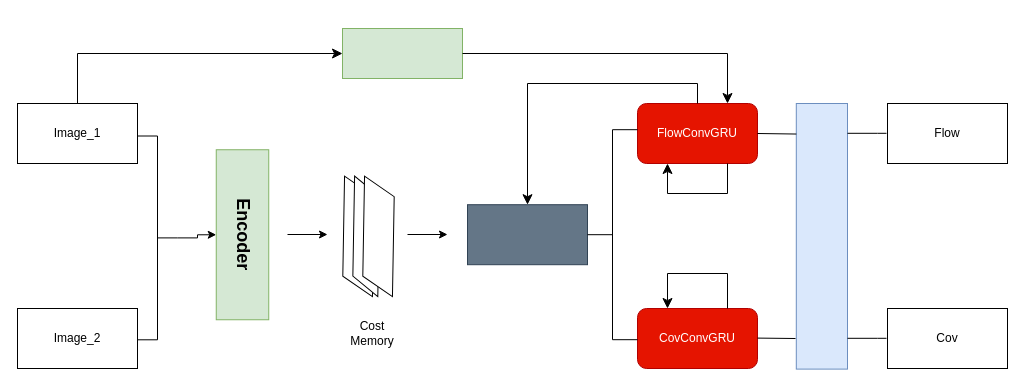
Image size: 1025x387. Some labels were removed from this diagram. Here are the shapes that lost their labels. From the top down, the box of each, then its label:
(342, 28, 462, 78): Context Encoder
(466, 204, 588, 265): Attention Layer
(795, 102, 848, 369): Upsampler
